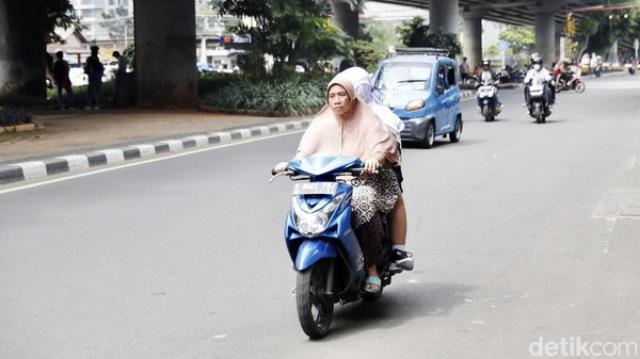helm: (534, 58, 545, 72), (483, 61, 491, 72)
motor: (272, 152, 398, 340), (523, 77, 557, 125), (475, 77, 504, 123)
non-helm: (329, 80, 356, 115)
